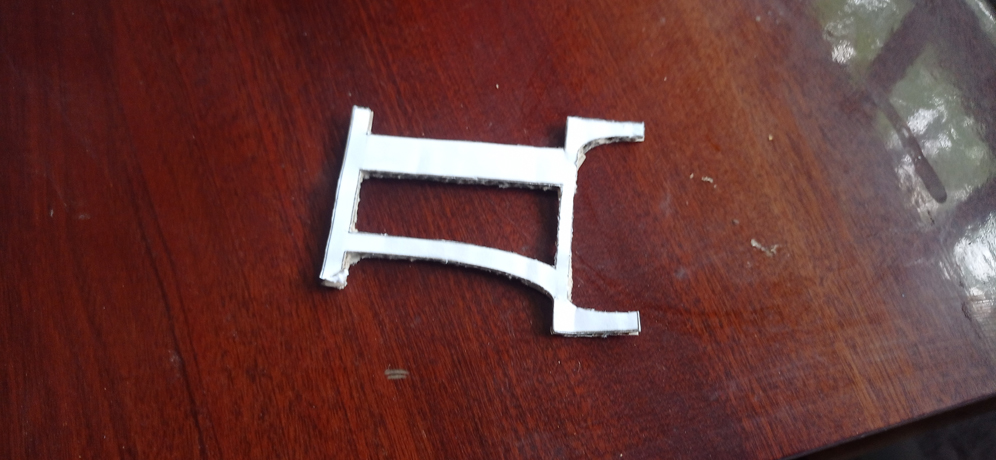d: (317, 106, 645, 342)
